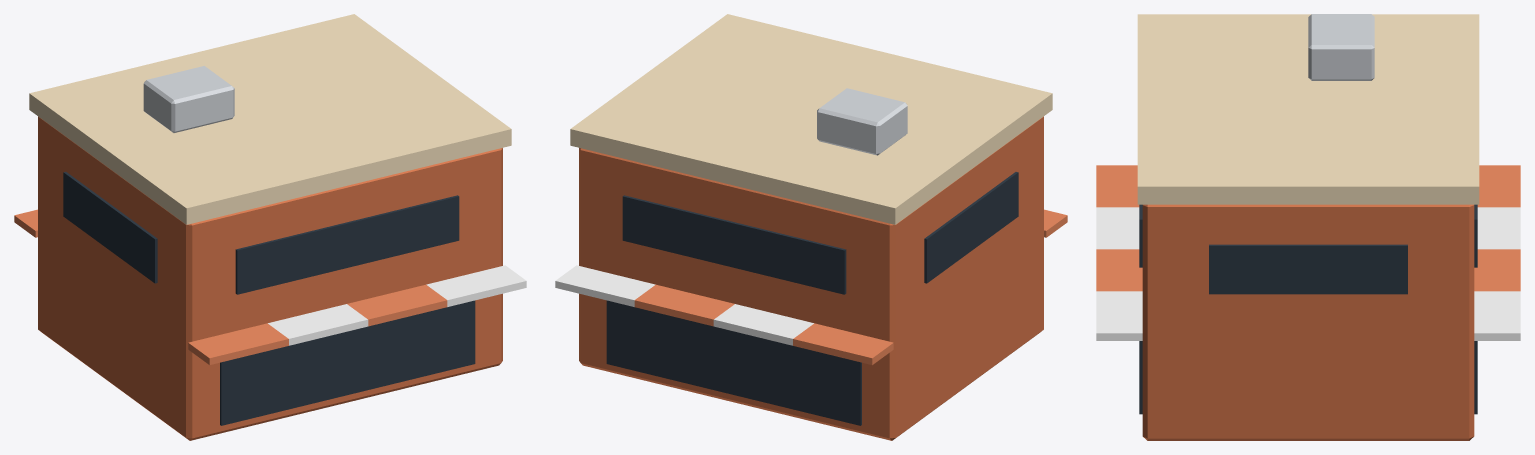
The model's file is d_shop_a.fbx.
3 views of the same model, side by side, from view 1: azimuth 30°, elevation 25°; view 2: azimuth 150°, elevation 25°; view 3: azimuth 270°, elevation 25° (orthographic). The views are drawn at different scales.
Parts seen in each view (by area): view 1: d_shop_a; view 2: d_shop_a; view 3: d_shop_a.
Boxes of the visible parts, x1,y1,x2,y2 form: d_shop_a: (14, 14, 526, 440); d_shop_a: (555, 14, 1067, 440); d_shop_a: (1096, 14, 1520, 440).
Size of the model in its own units: 12.3 by 9.8 by 12.8.
